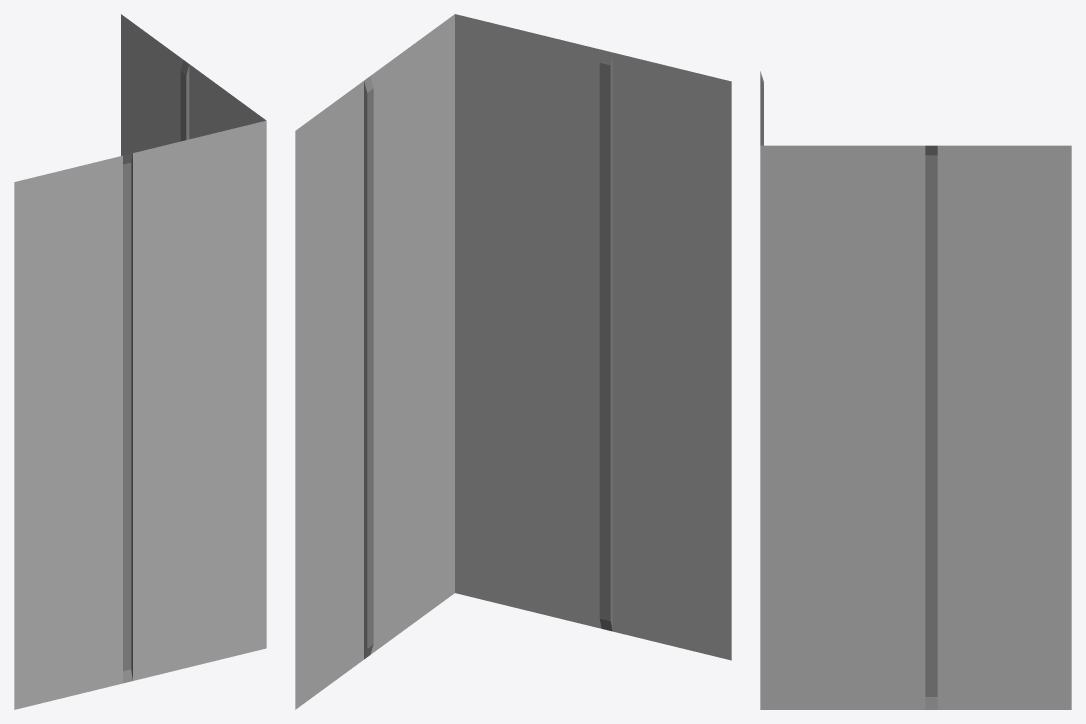
The model's file is Ext-ConcreteCorner.fbx.
3 renders of one model, left to right at view 1: azimuth 30°, elevation 25°; view 2: azimuth 150°, elevation 25°; view 3: azimuth 270°, elevation 25°, orthographic. The views are drawn at different scales.
Parts seen in each view (by area): view 1: Ext-ConcreteCorner; view 2: Ext-ConcreteCorner; view 3: Ext-ConcreteCorner.
Boxes of the visible parts, left/top/right/bottom form: Ext-ConcreteCorner: left=14, top=14, right=266, bottom=709; Ext-ConcreteCorner: left=295, top=14, right=731, bottom=709; Ext-ConcreteCorner: left=760, top=71, right=1071, bottom=709.
Bounding box in the file's own units: 100 × 200 × 100.
